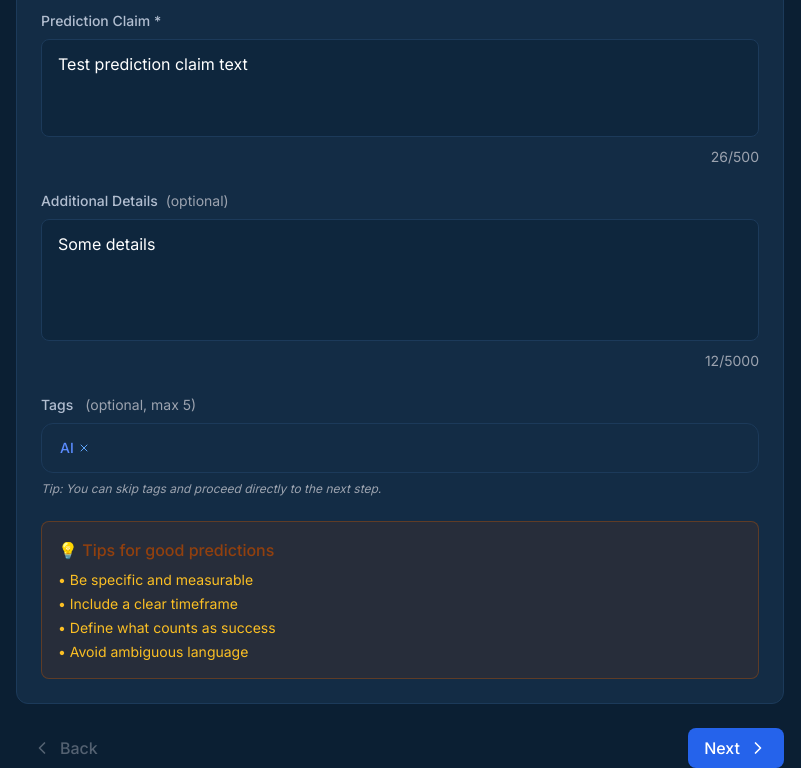
ForecastWizard › converts ISO datetime to YYYY-MM-DD for the date input in express flow
(page scrolled)
Click the button "Next".
click(736, 748)  # box [688,728,784,767]
(page scrolled)
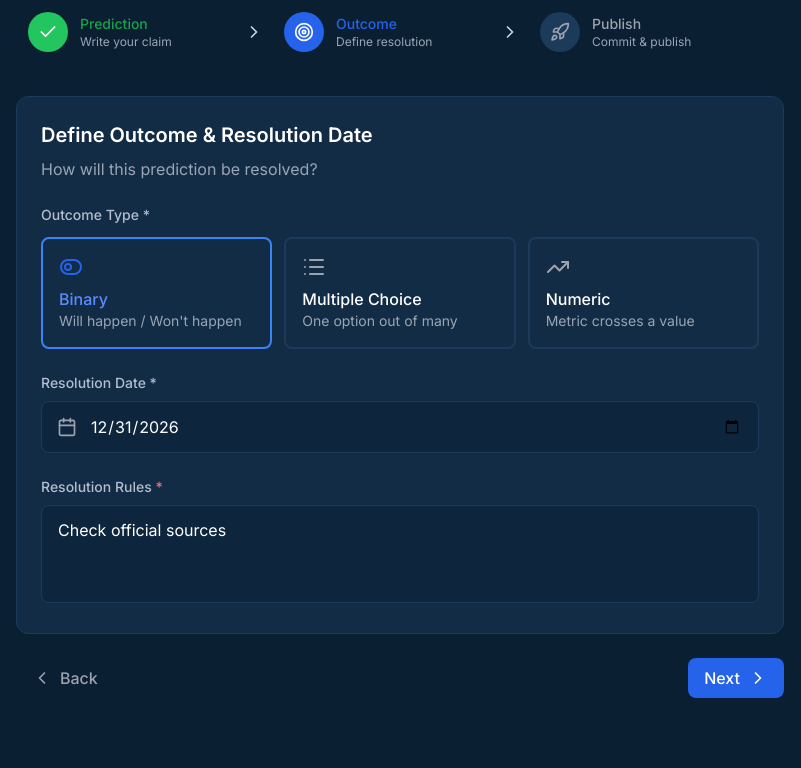
Check: the date field labelled "Resolution Date *" holds "2026-12-31", box [41,401,759,453]
